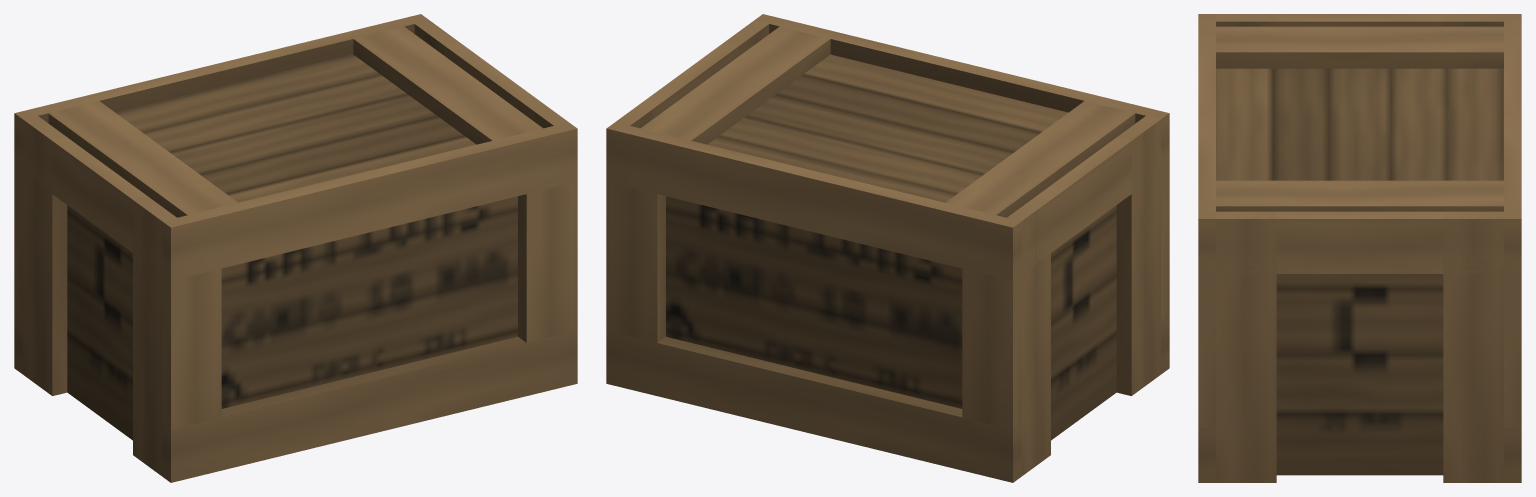
Rendered from ration_crate.glb.
3 views of the same model, side by side, from view 1: azimuth 30°, elevation 25°; view 2: azimuth 150°, elevation 25°; view 3: azimuth 270°, elevation 25° (orthographic). The views are drawn at different scales.
Visible parts, largest first — view 1: ration_crate; view 2: ration_crate; view 3: ration_crate.
Part boxes in pixels (box(x1,y1,x2,y2)): ration_crate: box(14, 14, 577, 482); ration_crate: box(606, 14, 1169, 482); ration_crate: box(1198, 14, 1521, 482).
Size of the model in its own units: 0.6 by 0.36 by 0.4.
1 material, 1 textured.
